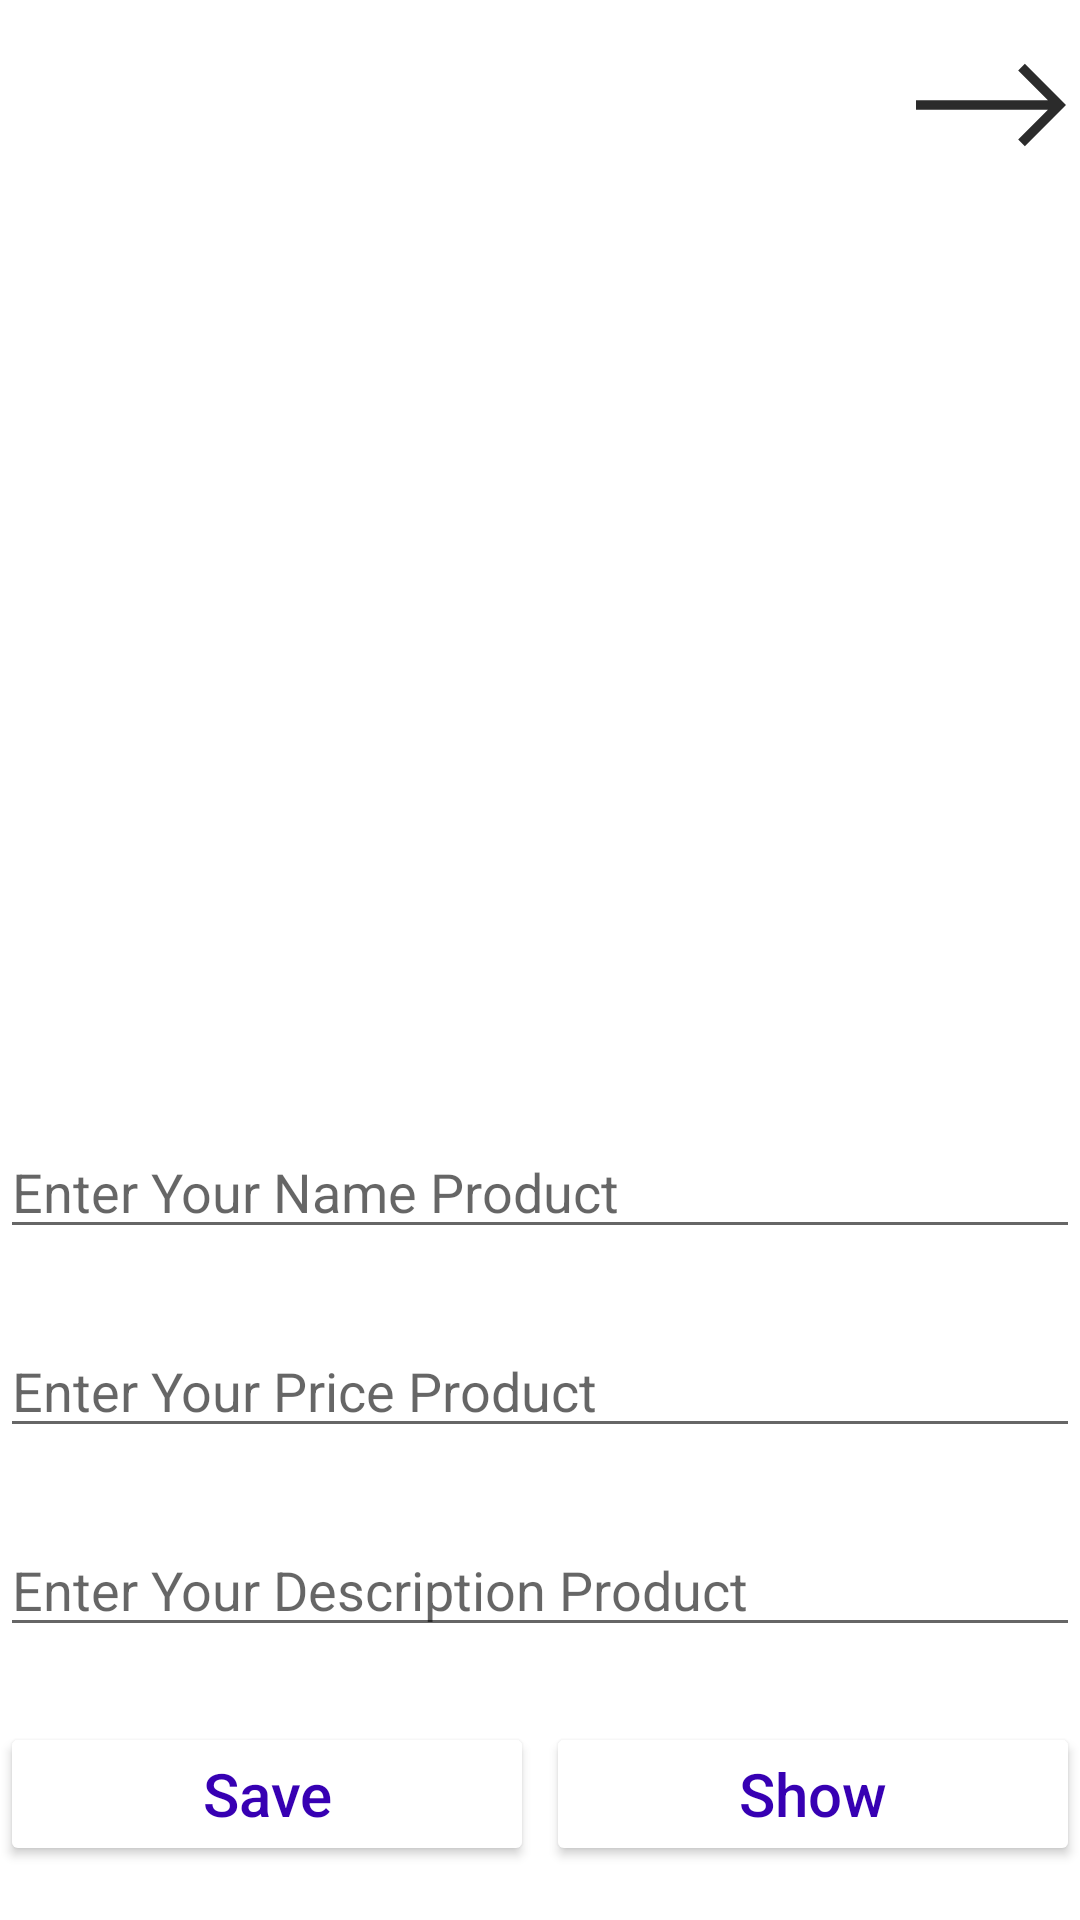

Icons on this 1080 x 1920 Android screen, each with its box as (left=x1, top=y1, right=x2, bottom=y2):
im arrow: (left=916, top=64, right=1066, bottom=146)
